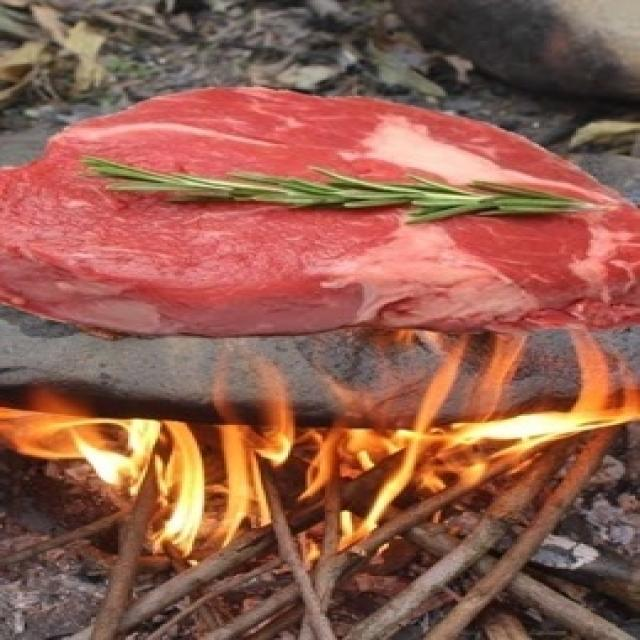Fire: (2, 325, 640, 571)
